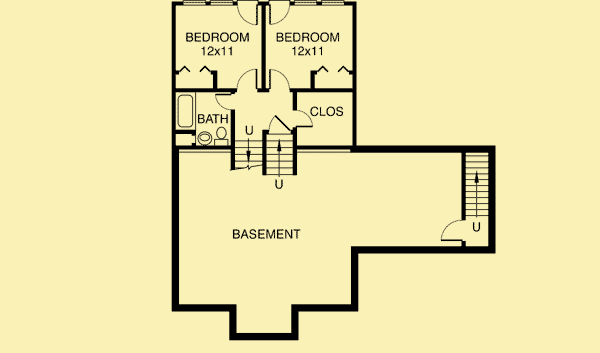door: (174, 89, 199, 131), (266, 67, 296, 95), (439, 217, 470, 243), (234, 1, 262, 28), (266, 1, 293, 28), (289, 106, 316, 132), (235, 67, 260, 91), (266, 115, 295, 135), (211, 93, 237, 112), (196, 130, 215, 145)
large sink: (212, 125, 233, 149)
stairs: (229, 126, 302, 192), (460, 147, 491, 232)
windows: (180, 1, 243, 10), (293, 1, 348, 9)
